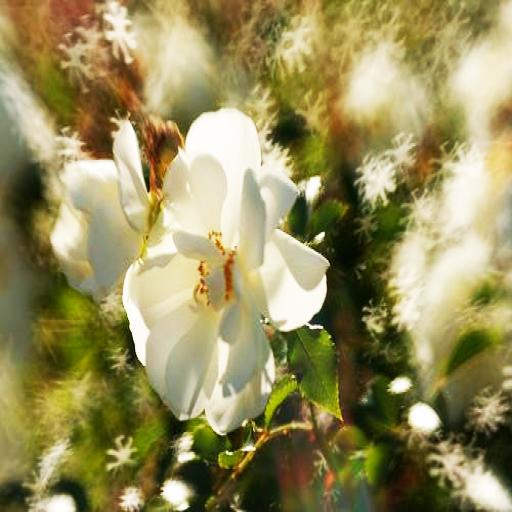rose: (118, 109, 328, 434)
